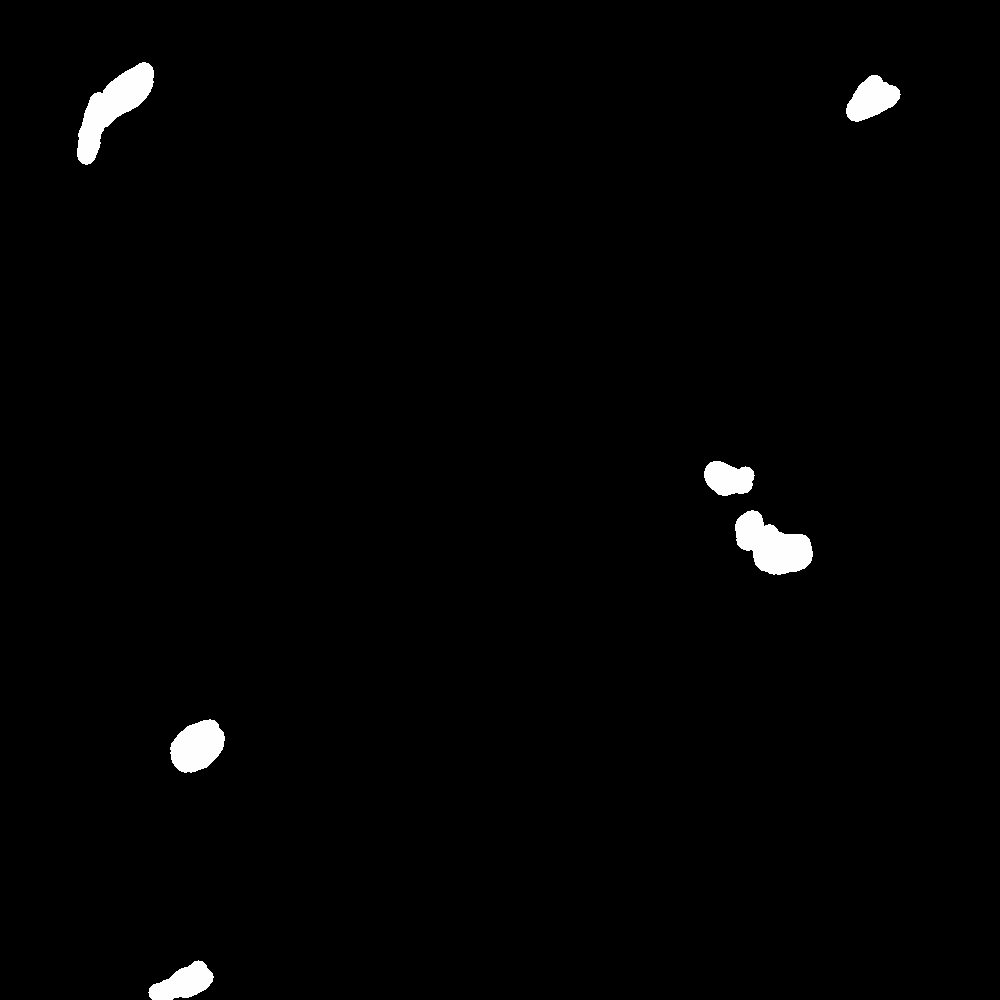illegal: (168, 650, 288, 804), (613, 439, 767, 508), (122, 947, 230, 1000), (837, 70, 914, 138)
